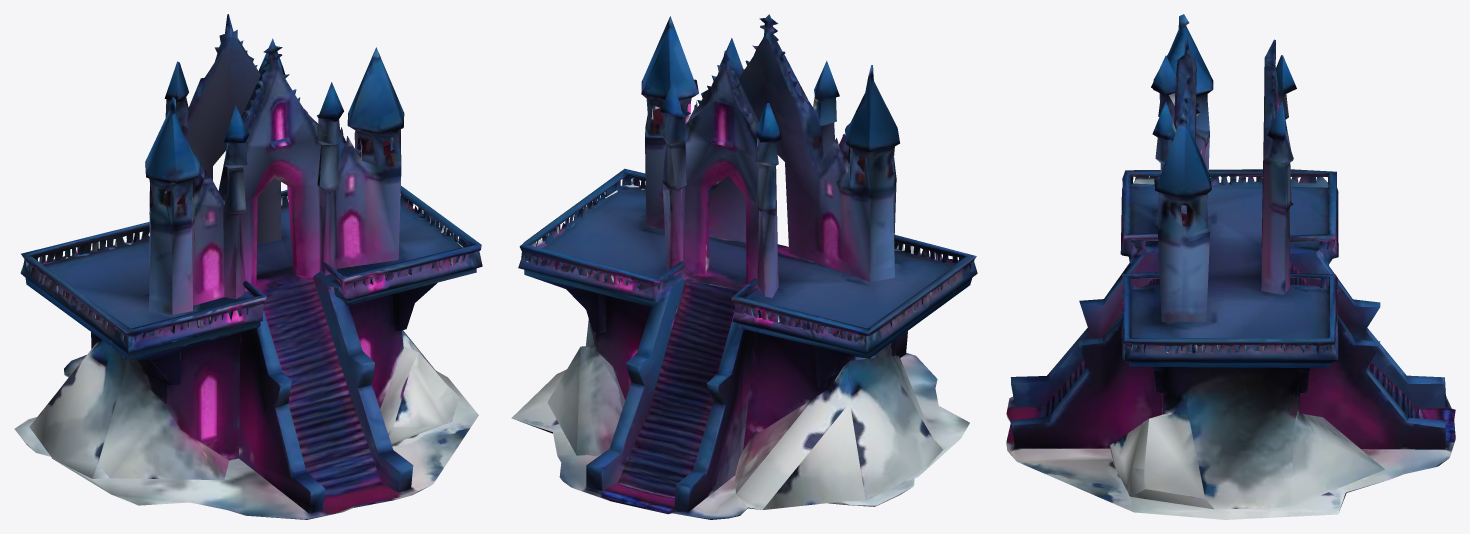
Rendered from yggdrasil-crown-ascent-merged.collider.glb.
3 views of the same model, side by side, from view 1: azimuth 30°, elevation 25°; view 2: azimuth 150°, elevation 25°; view 3: azimuth 270°, elevation 25° (orthographic).
Parts seen in each view (by area): view 1: temp_mesh.ply; view 2: temp_mesh.ply; view 3: temp_mesh.ply.
Boxes of the visible parts, <box> form: temp_mesh.ply: <box>14,14,482,519</box>; temp_mesh.ply: <box>511,14,977,519</box>; temp_mesh.ply: <box>1006,14,1455,519</box>.
Bounding box in the file's own units: 1.92 × 1.9 × 1.97.
1 material, 1 textured.
